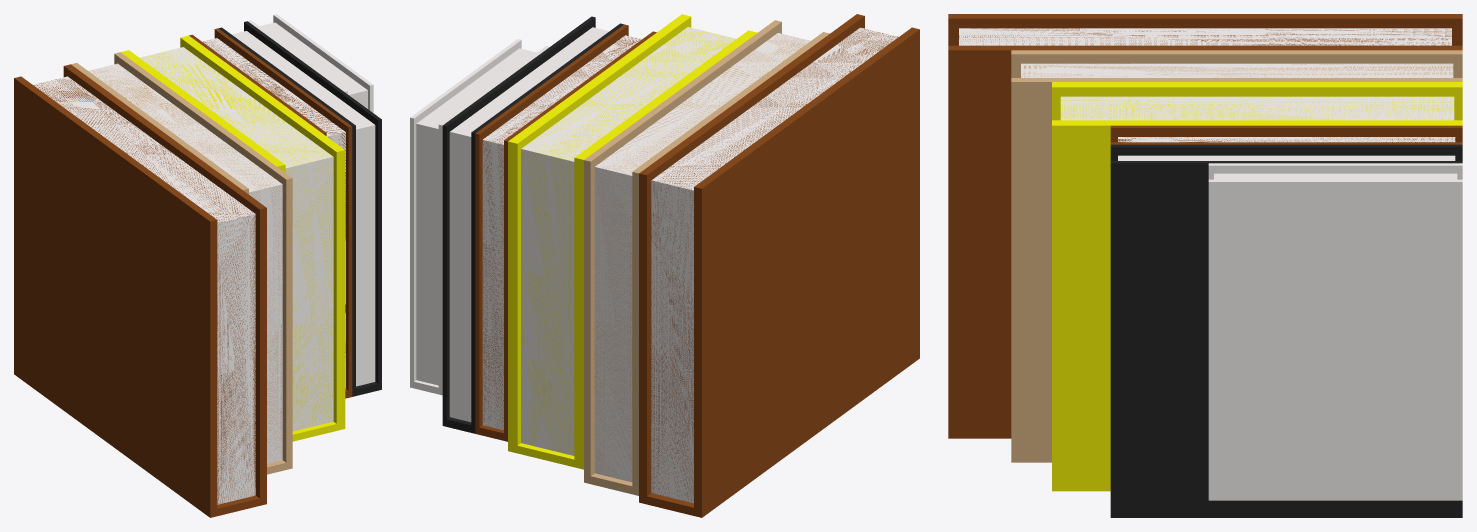
The picture shows the model from 3 angles, left to right: view 1: azimuth 30°, elevation 25°; view 2: azimuth 150°, elevation 25°; view 3: azimuth 270°, elevation 25°; orthographic projection. The views are drawn at different scales.
Visible parts, largest first — view 1: books horizontal; view 2: books horizontal; view 3: books horizontal.
Boxes of the visible parts, box(x1,y1,x2,y2) form: books horizontal: box(14, 14, 381, 517); books horizontal: box(410, 14, 919, 517); books horizontal: box(948, 14, 1462, 517).
Bounding box in the file's own units: 10.58 × 11.4 × 13.68.
